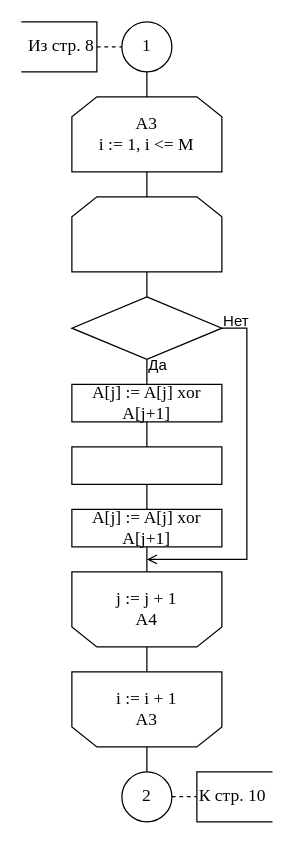
The diagram is 294 pixels wide and 844 high, and some of its shapes have lost their labels. The shapes that lost their labels are listed below. From the top down, each one's box as (x1, y1, x2, y2) in pixels, then its label:
(71, 196, 222, 272): А4 j := 1, j <= M - i
(71, 296, 222, 359): A[j] > A[j+1]
(71, 446, 222, 484): A[j+1] := A[j] xor A[j+1]
